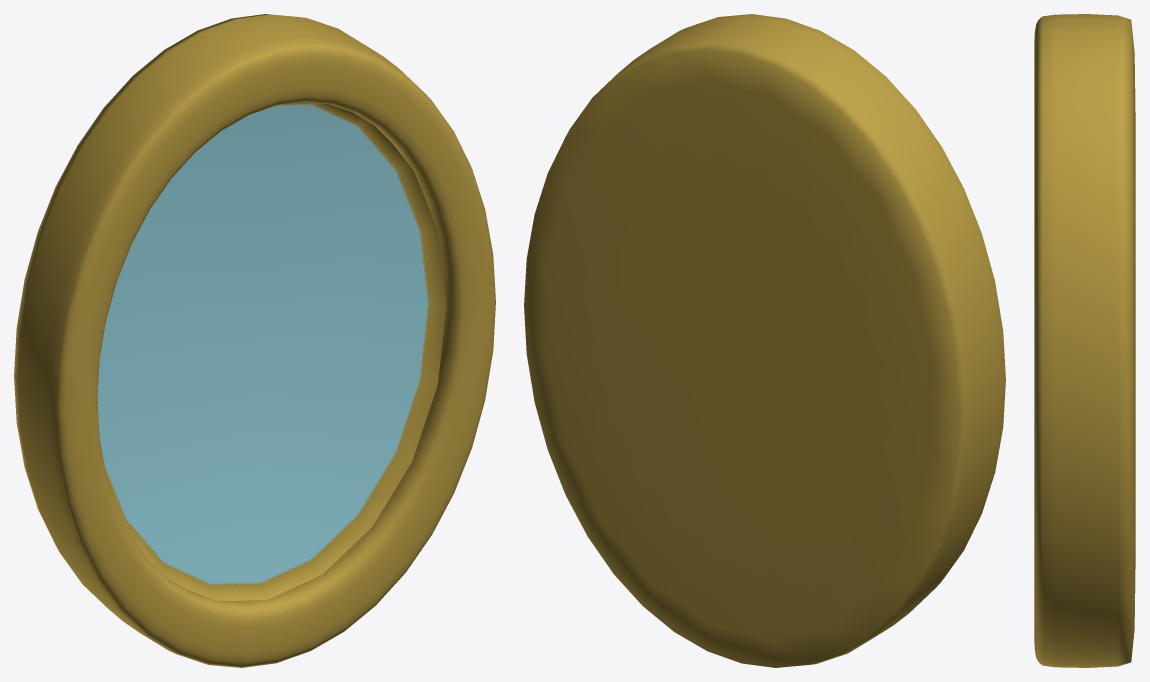
File: Mirall Textura.fbx
The picture shows the model from 3 angles, left to right: view 1: azimuth 30°, elevation 25°; view 2: azimuth 150°, elevation 25°; view 3: azimuth 270°, elevation 25°; orthographic projection.
Parts seen in each view (by area): view 1: Mirall; view 2: Mirall; view 3: Mirall.
Part boxes in pixels (bbox=[...]): Mirall: bbox=[14, 14, 495, 667]; Mirall: bbox=[524, 14, 1005, 667]; Mirall: bbox=[1034, 14, 1135, 667].
Size of the model in its own units: 1.77 by 2.37 by 0.3526.
Materials: 1 (1 with a texture image).
